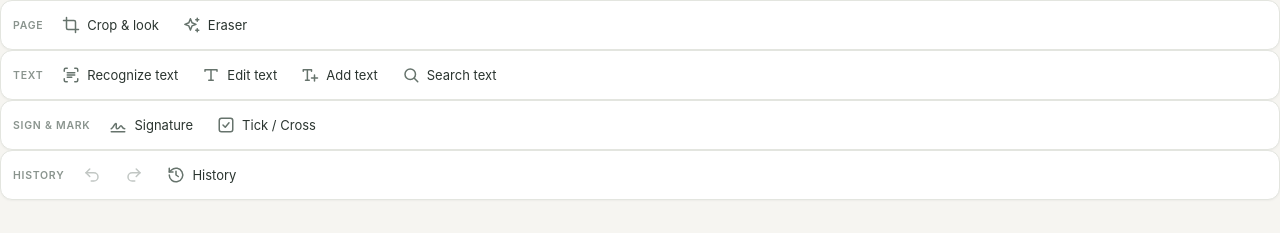
Scenario: EditToolbarComponent › history load failure shows the safe message
Click the button "History".
click(202, 175)  # box [156,155,247,195]
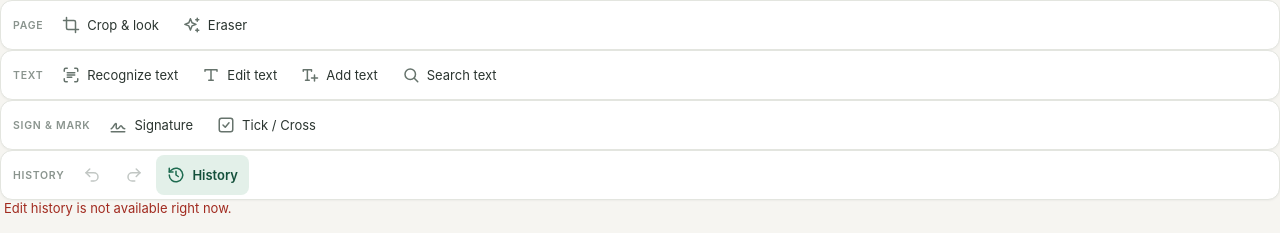
Check: the message "Edit history is not available right now." is shown, box [4,200,232,216]
